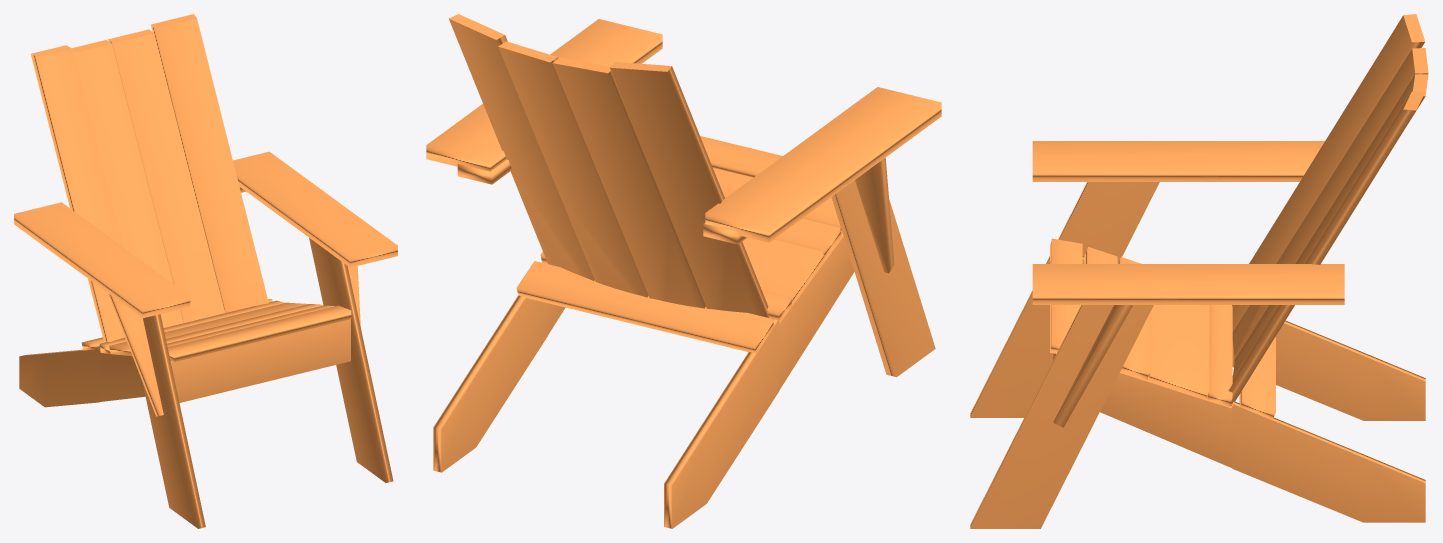
The model's file is AdirondackChair.002.glb.
3 views of the same model, side by side, from view 1: azimuth 30°, elevation 25°; view 2: azimuth 150°, elevation 25°; view 3: azimuth 270°, elevation 25° (orthographic). The views are drawn at different scales.
Parts seen in each view (by area): view 1: AdirondackChair.002; view 2: AdirondackChair.002; view 3: AdirondackChair.002.
Boxes of the visible parts, box(x1,y1,x2,y2) form: AdirondackChair.002: box(14, 14, 397, 528); AdirondackChair.002: box(426, 14, 941, 528); AdirondackChair.002: box(970, 14, 1428, 528).
Size of what is drawn, in the model's own units: 1.07 by 1.35 by 1.37.
Materials: 1 (1 with a texture image).
